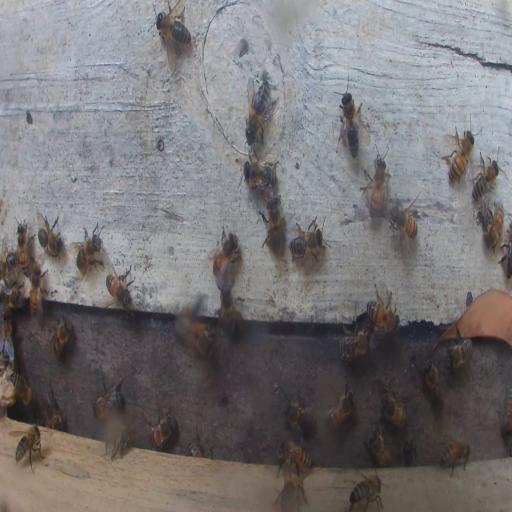nonpollenbee: (244, 80, 275, 143), (337, 86, 363, 158), (444, 125, 476, 183), (364, 146, 388, 220), (156, 2, 192, 50), (470, 150, 500, 205), (278, 391, 316, 434), (211, 226, 240, 281), (74, 224, 104, 277), (260, 193, 286, 254), (388, 195, 419, 245), (289, 219, 324, 263), (325, 382, 355, 431), (274, 440, 312, 478), (35, 211, 64, 259), (14, 422, 42, 471), (92, 376, 124, 418), (349, 471, 382, 511), (146, 404, 174, 450), (438, 440, 472, 476), (366, 422, 391, 469), (244, 156, 278, 190), (217, 282, 238, 335), (380, 388, 406, 430), (422, 359, 445, 406), (105, 426, 136, 460), (339, 328, 370, 362), (106, 270, 133, 308), (367, 302, 399, 334), (484, 204, 504, 253), (278, 477, 306, 511), (52, 314, 72, 360), (29, 262, 44, 322), (444, 339, 473, 368), (16, 222, 32, 274), (9, 370, 32, 405), (498, 387, 512, 443), (1, 281, 24, 311), (187, 431, 213, 457), (2, 312, 14, 359), (502, 223, 512, 279), (400, 439, 418, 468), (2, 249, 18, 278), (46, 409, 64, 429)
pollenbee: (176, 292, 209, 334)
